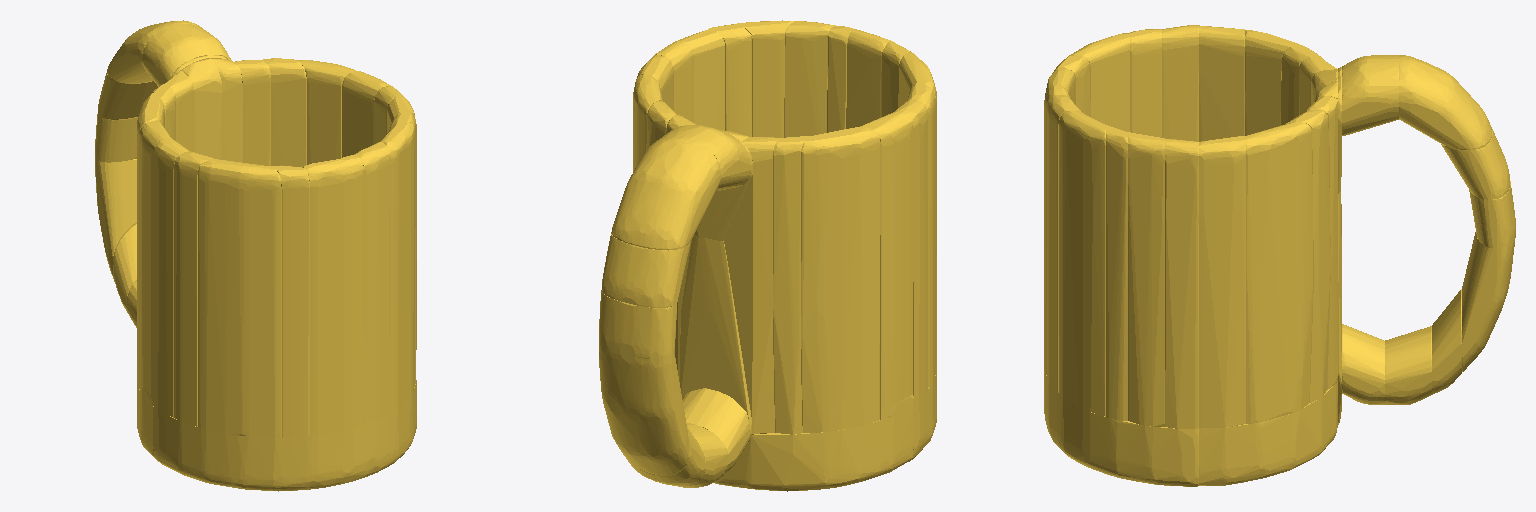
The robot description file, URDF, robot "530.urdf":
<?xml version="1.0" ?>
<robot name="530.urdf">
	<link name="baseLink">
		<inertial>
			<origin rpy="0 0 0" xyz="0 0 0"/>
				<mass value="0.1"/>
				<inertia ixx="6e-5" ixy="0" ixz="0" iyy="6e-5" iyz="0" izz="6e-5"/>
		</inertial>
		<visual>
			<origin rpy="0 0 0" xyz="0 0 0"/>
			<geometry>
				<mesh filename="32_decom_wt.obj" scale="0.80 0.80 1.18"/>
			</geometry>
			<material name="yellow">
				<color rgba="0.98 0.84 0.35 1"/>
			</material>
		</visual>
		<collision>
			<origin rpy="0 0 0" xyz="0 0 0"/>
			<geometry>
				<mesh filename="32_decom_wt.obj" scale="0.80 0.80 1.18"/>
			</geometry>
		</collision>
	</link>
</robot>

--- Facts derived from the render (not from the file) ---
The picture shows the robot from 3 angles, left to right: view 1: azimuth 30°, elevation 25°; view 2: azimuth 150°, elevation 25°; view 3: azimuth 270°, elevation 25°; orthographic projection.
Robot: 530.urdf — 1 links, 0 joints (none); root link baseLink; default pose: all joints at 0.
Visible links, largest first — view 1: baseLink; view 2: baseLink; view 3: baseLink.
Boxes of the visible links, left/top/right/bottom form: baseLink: left=95, top=20, right=416, bottom=491; baseLink: left=599, top=20, right=936, bottom=491; baseLink: left=1044, top=25, right=1515, bottom=486.
Size in the robot's own frame: 0.0762 by 0.1203 by 0.1027 metres.
Meshes: 1 distinct files referenced, 1 mesh visuals loaded (1 OBJ).